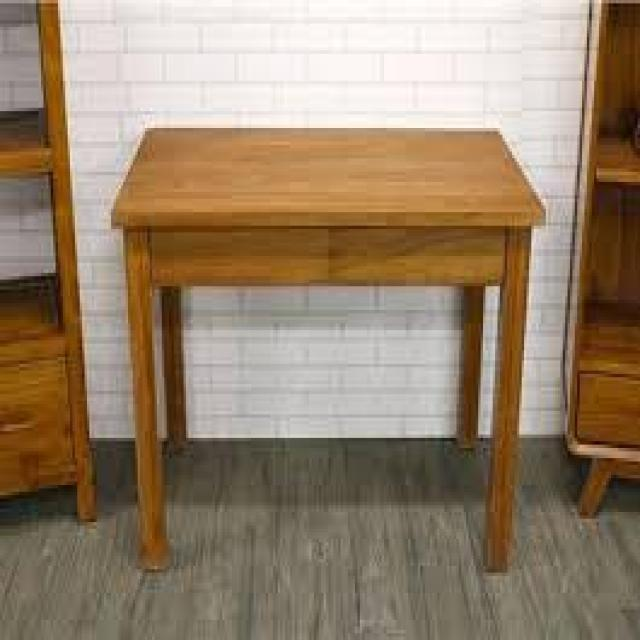mobile-phone: (109, 119, 549, 578)
